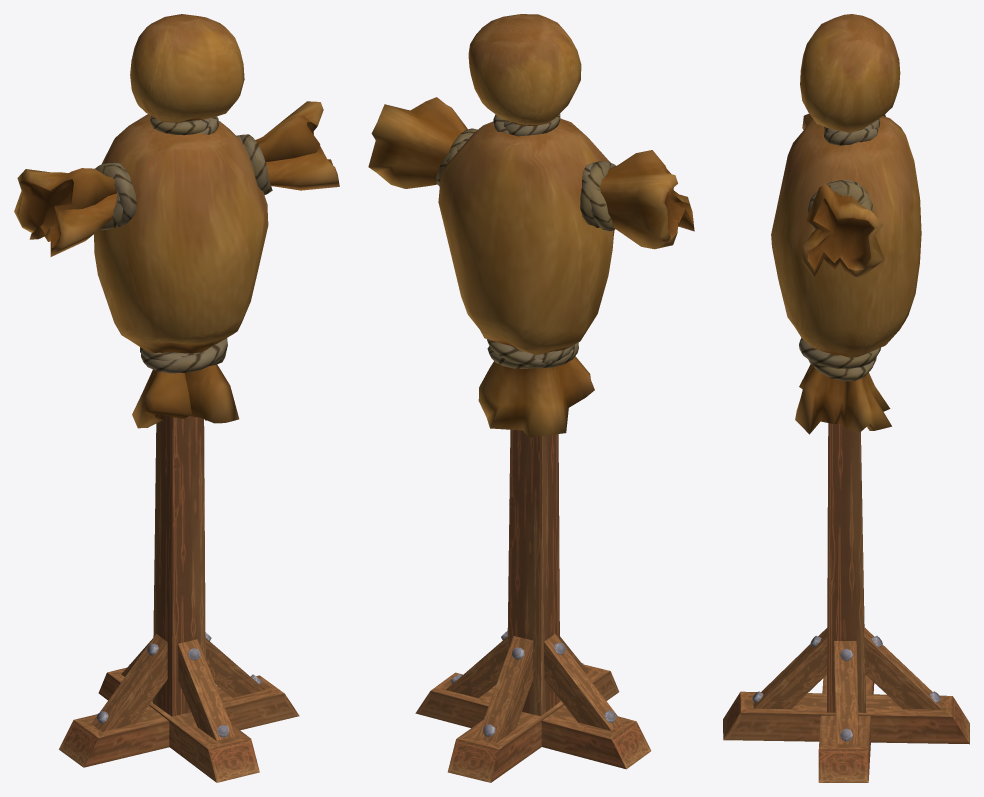
File: Dummy.gltf
3 renders of one model, left to right at view 1: azimuth 30°, elevation 25°; view 2: azimuth 150°, elevation 25°; view 3: azimuth 270°, elevation 25°, orthographic.
Parts seen in each view (by area): view 1: Dummy; view 2: Dummy; view 3: Dummy.
Boxes of the visible parts, left/top/right/bottom form: Dummy: left=14, top=14, right=339, bottom=782; Dummy: left=368, top=14, right=694, bottom=782; Dummy: left=723, top=14, right=969, bottom=782.
Size of the model in its own units: 0.8084 by 1.86 by 0.5847.
Materials: 3 (3 with a texture image).
